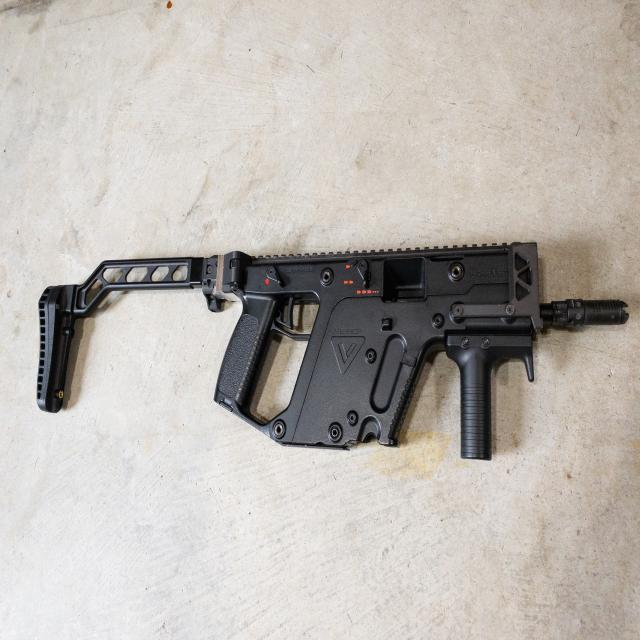SMG: (37, 244, 623, 462)
